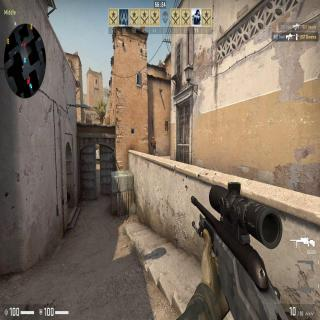T-Body: (151, 135, 156, 155)
T-Head: (152, 136, 154, 142)
